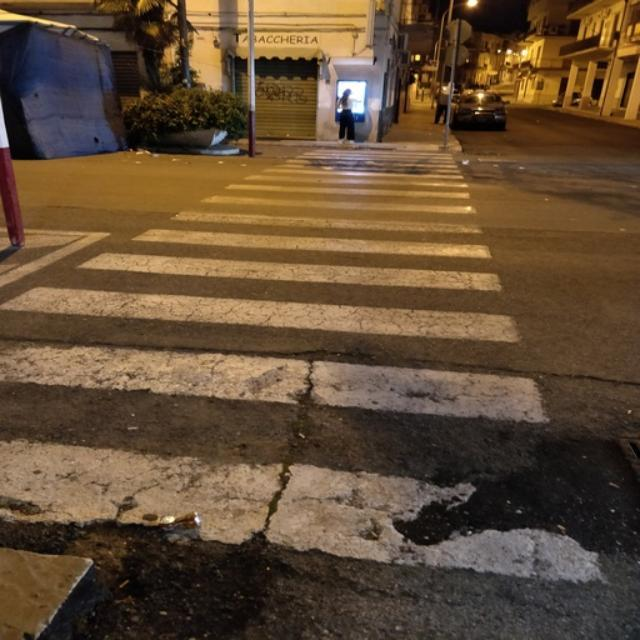sidewalk: (6, 133, 627, 640)
